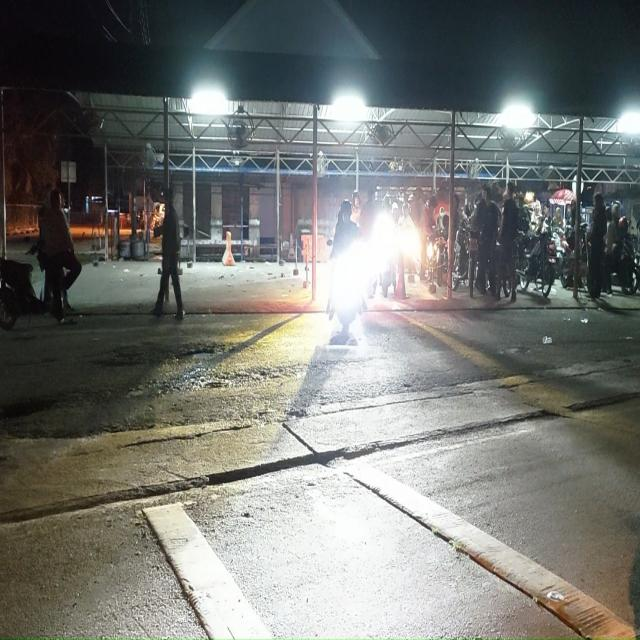Golongan II: (331, 240, 367, 336), (0, 258, 47, 330), (468, 230, 512, 298), (516, 223, 556, 297), (369, 214, 397, 297), (558, 222, 589, 289), (612, 234, 640, 295), (425, 226, 448, 286), (452, 222, 471, 291)
